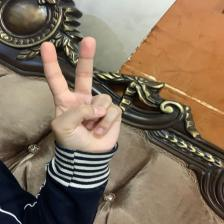two: (27, 35, 129, 155)
